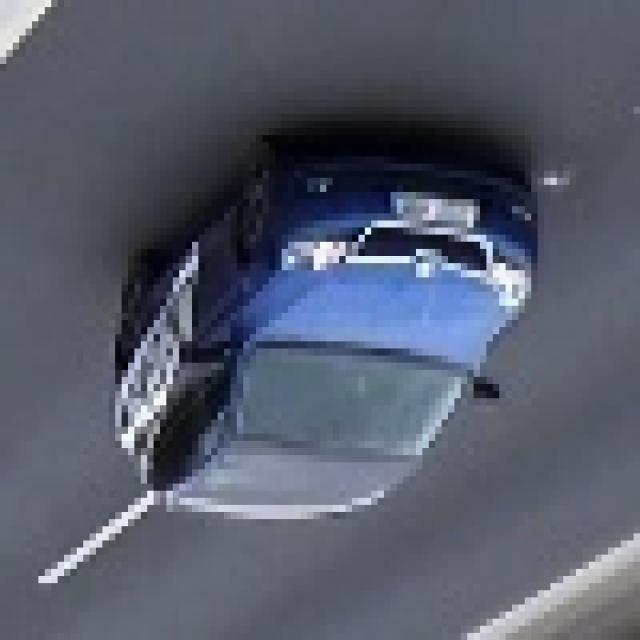blue: (121, 131, 536, 513)
